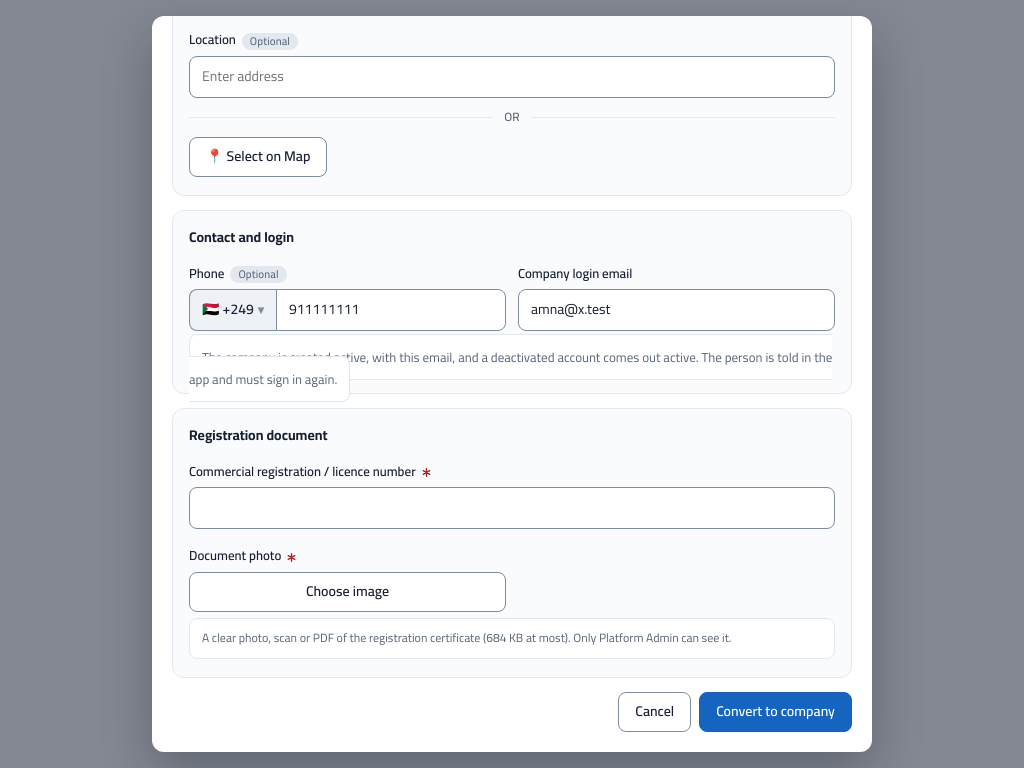
Test: converting a customer to a company › refuses an incomplete company and says what is missing
(page scrolled)
Click the button "Convert to company".
click(776, 712)  # box [699,692,852,732]
(page scrolled)
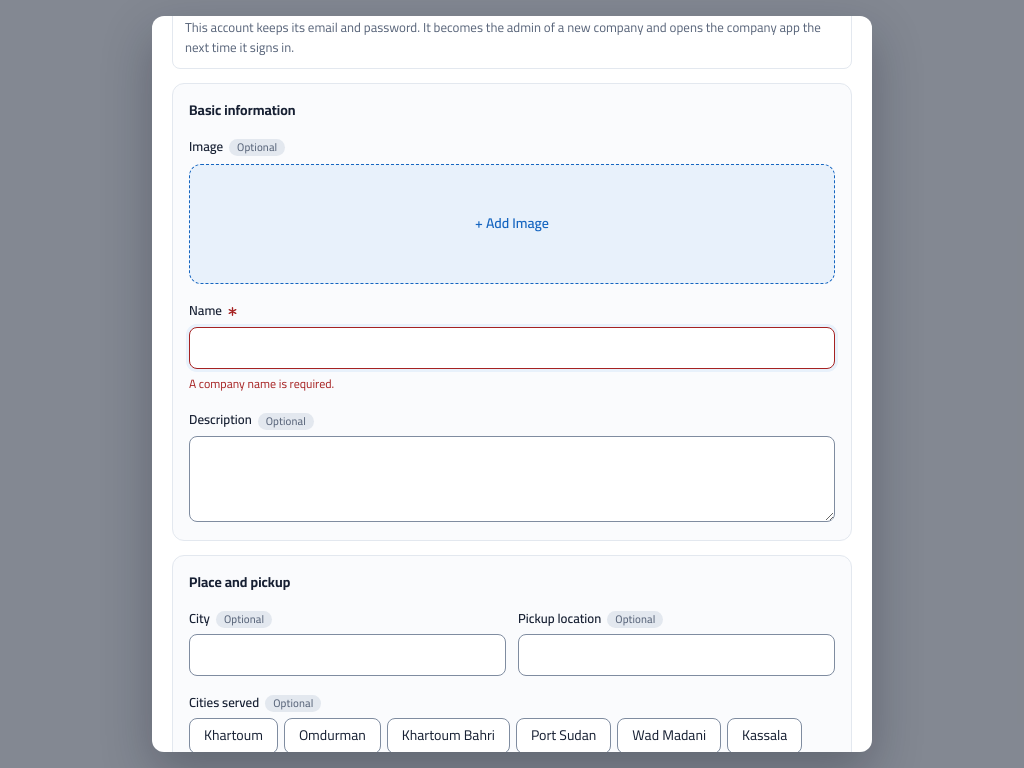
Result: the text "A company name is required." is shown at [189,372,334,395]
